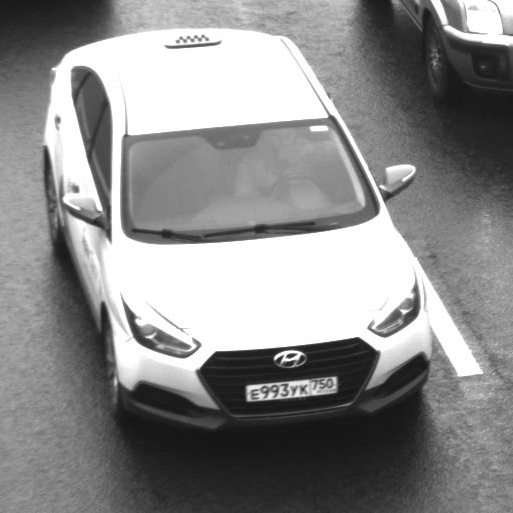plate: (235, 368, 347, 412)
